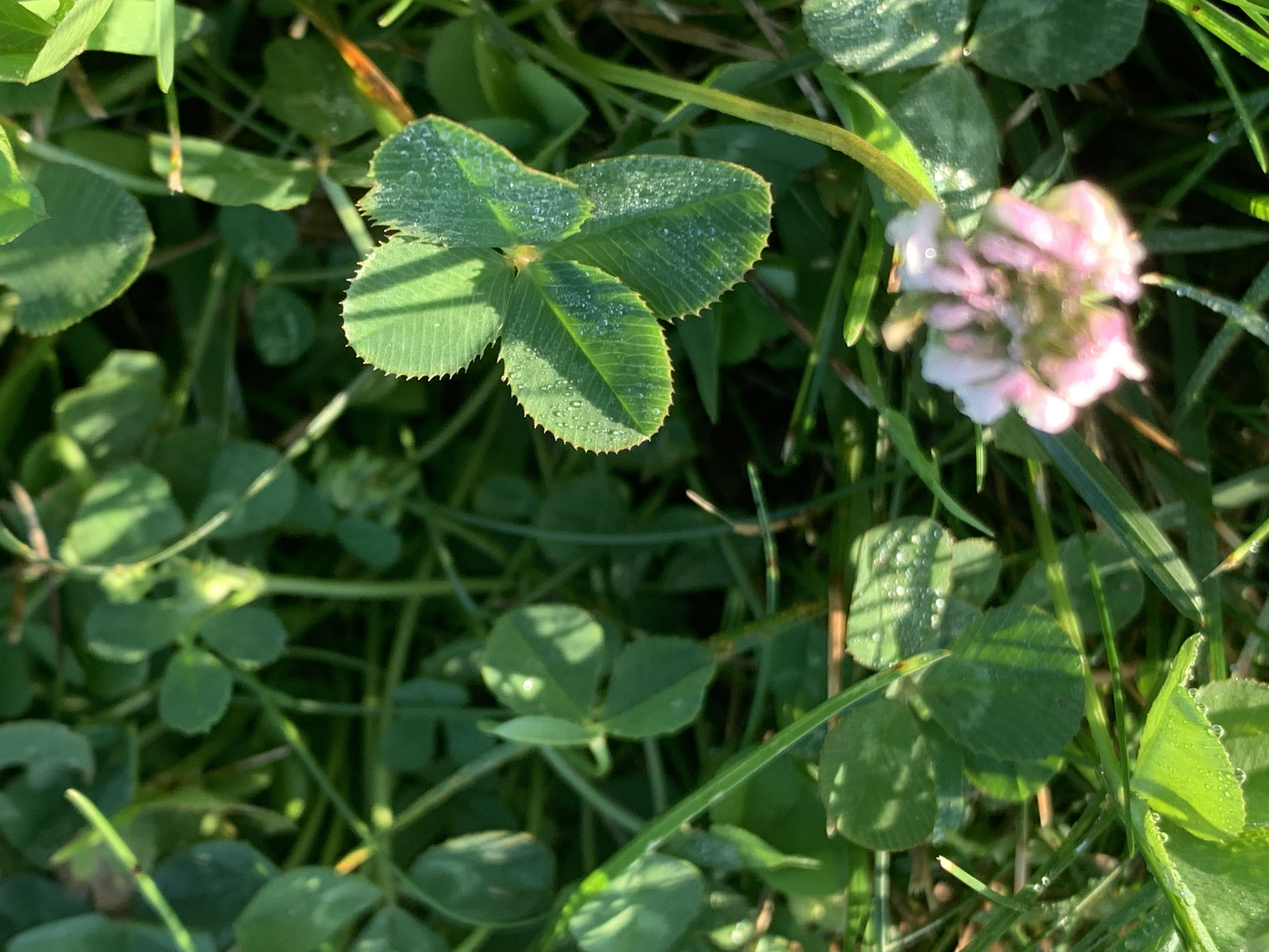4-Leaf-Clovers: (500, 498, 923, 831)
